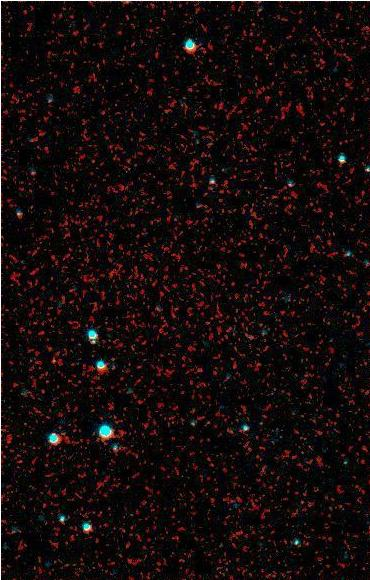star: (41, 342, 71, 372)
